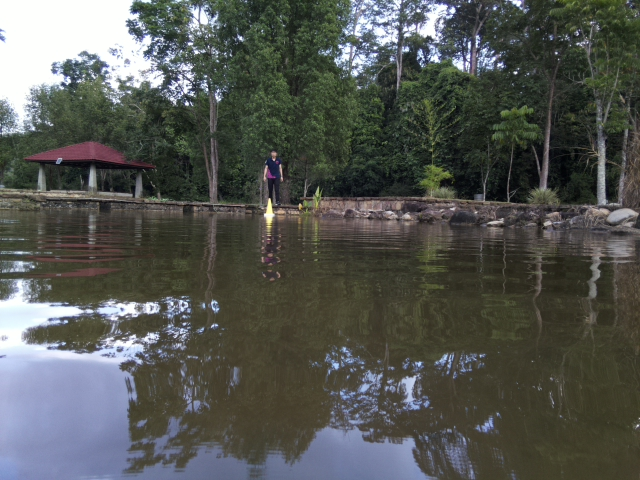checkpoint: (263, 196, 276, 217)
